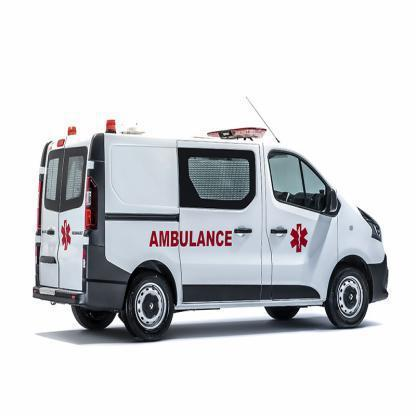ambulance_off: (33, 119, 387, 338)
